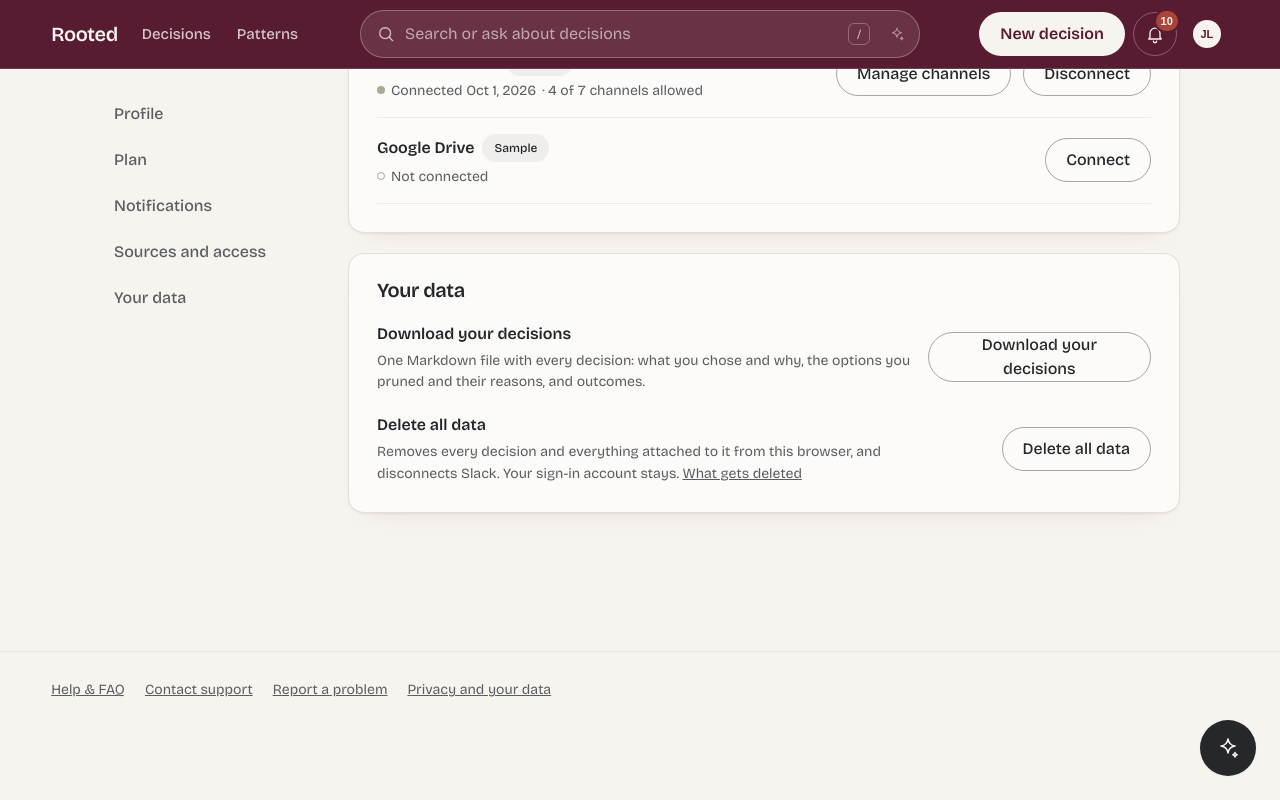
Test case: Settings › F-23: delete all data requires typing DELETE, then wipes decisions
(page scrolled)
Click the button "Delete all data". click: coordinates (1076, 449)
box: [1002, 427, 1151, 471]
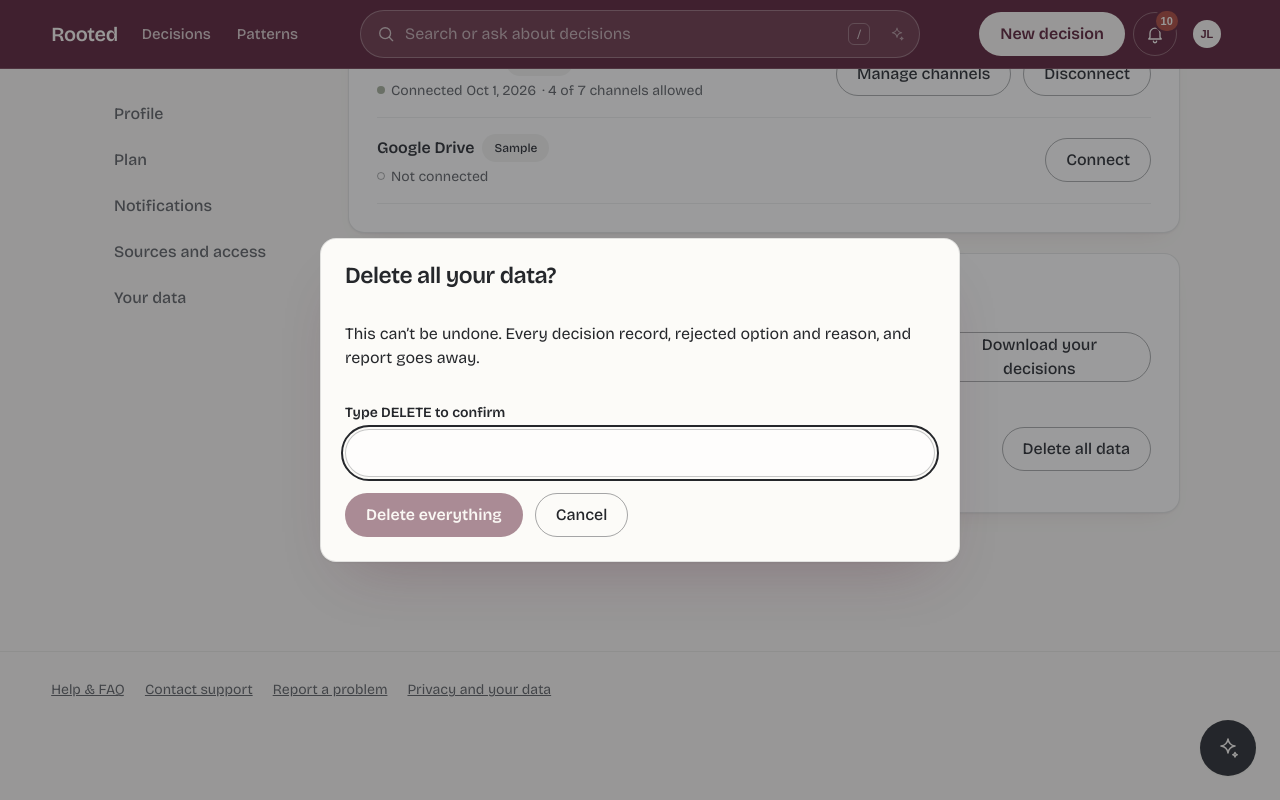
Expected: the button "Delete everything" is disabled, [345, 493, 523, 537]
Type "delete" into the field labelled "Type DELETE to confirm". click: coordinates (640, 453)
box: [345, 429, 935, 477]
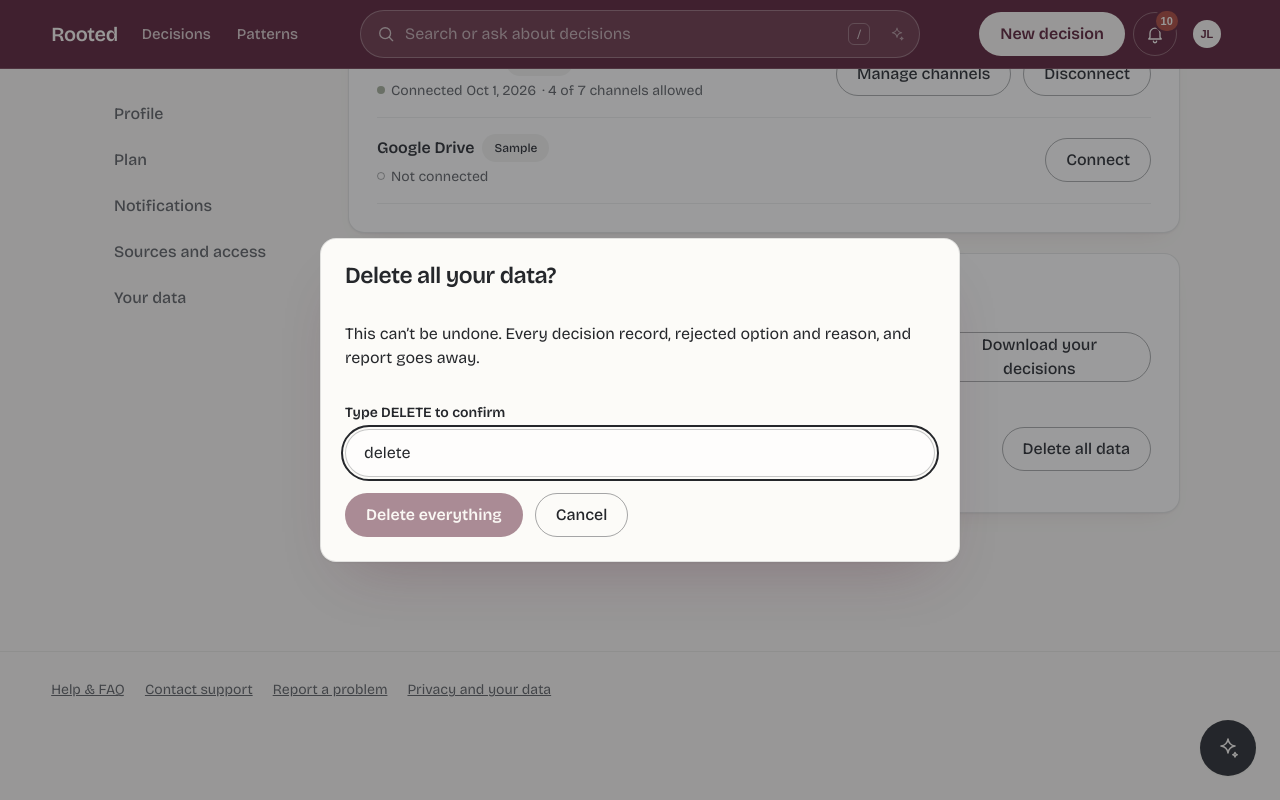
Expected: the button "Delete everything" is disabled, [345, 493, 523, 537]
Replace the text in the field labelled "Type DELETE to confirm" with "DELETE". click: coordinates (640, 453)
box: [345, 429, 935, 477]
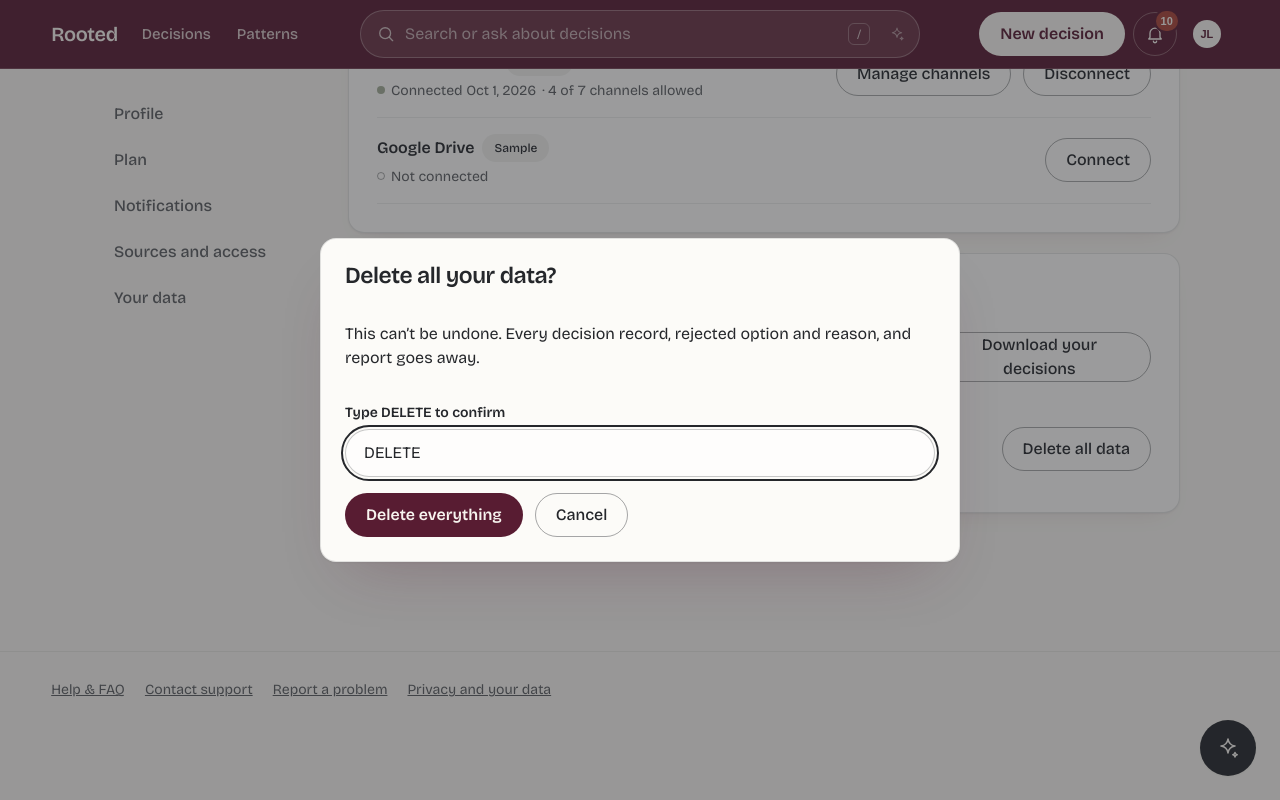
Expected: the button "Delete everything" is enabled
Click the button "Delete everything". click: coordinates (434, 515)
box: [345, 493, 523, 537]
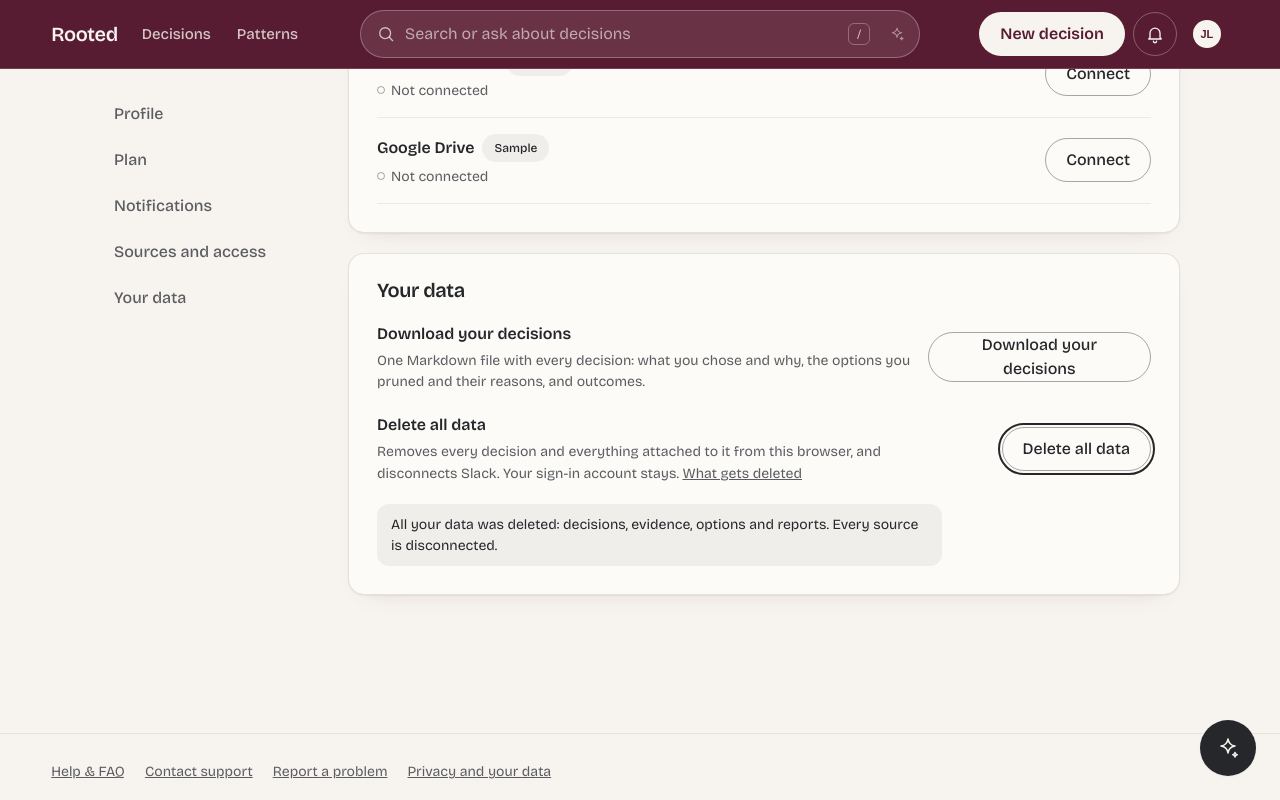
Expected: the text "All your data was deleted" is shown, [391, 516, 918, 554]
